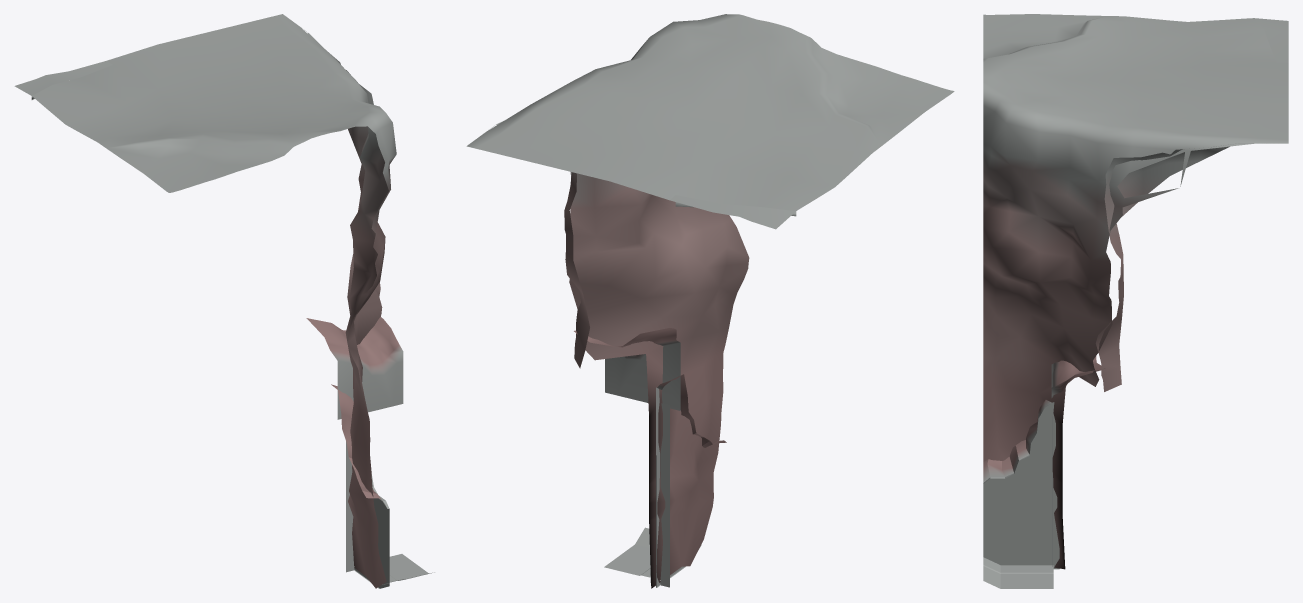
3 views of the same model, side by side, from view 1: azimuth 30°, elevation 25°; view 2: azimuth 150°, elevation 25°; view 3: azimuth 270°, elevation 25° (orthographic). The views are drawn at different scales.
Parts seen in each view (by area): view 1: G:\FFXIV-MapTools\exports\u5f1\bg\ex4\04_uvs_u5\fld\u5f1\bgp (×11); view 2: G:\FFXIV-MapTools\exports\u5f1\bg\ex4\04_uvs_u5\fld\u5f1\bgp (×11); view 3: G:\FFXIV-MapTools\exports\u5f1\bg\ex4\04_uvs_u5\fld\u5f1\bgp (×12).
Boxes of the visible parts, x1,y1,x2,y2 form: G:\FFXIV-MapTools\exports\u5f1\bg\ex4\04_uvs_u5\fld\u5f1\bgp (×11): [14, 14, 428, 588]; G:\FFXIV-MapTools\exports\u5f1\bg\ex4\04_uvs_u5\fld\u5f1\bgp (×11): [467, 14, 954, 588]; G:\FFXIV-MapTools\exports\u5f1\bg\ex4\04_uvs_u5\fld\u5f1\bgp (×12): [983, 14, 1288, 588].
Size of the model in its own units: 128 by 218 by 128.
